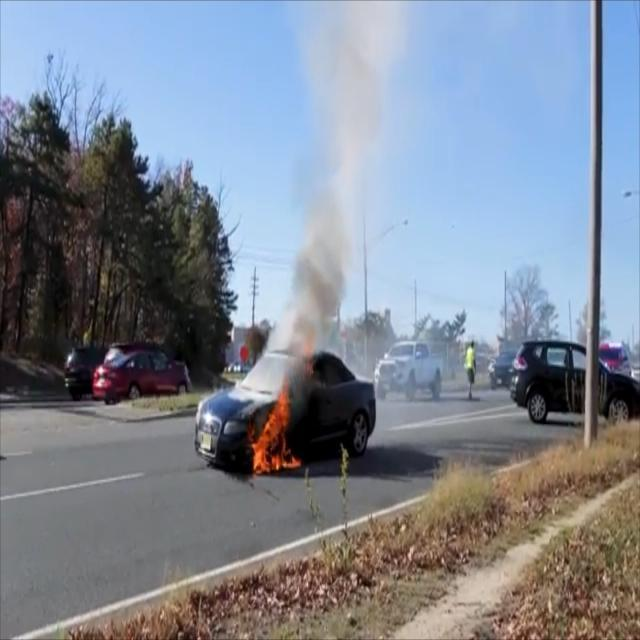fire: (244, 384, 305, 478), (292, 331, 324, 384)
